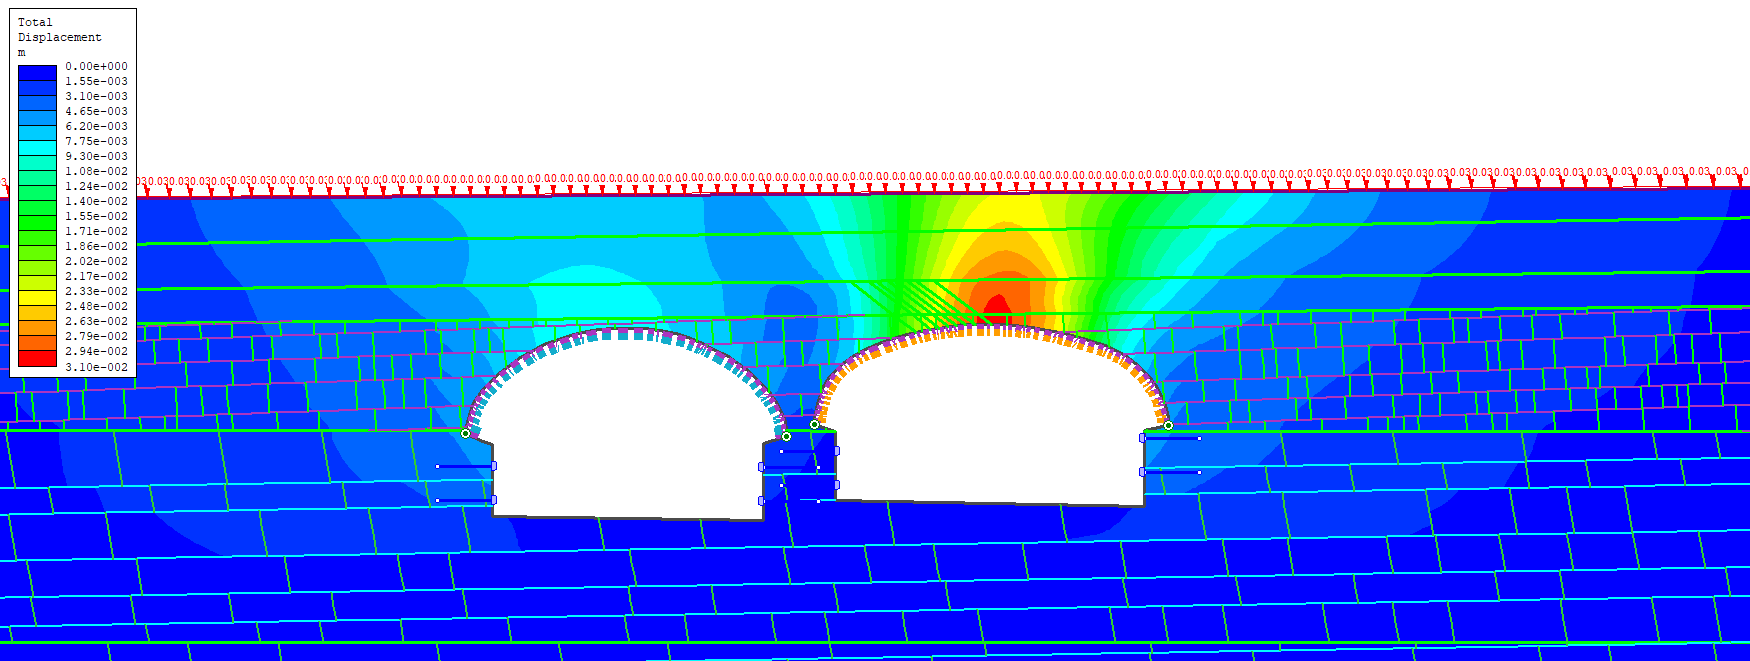crown: (951, 296, 1040, 322), (583, 301, 660, 325)
label: (10, 8, 133, 373)
tunnel-opening: (817, 322, 1173, 508), (458, 327, 787, 516)
